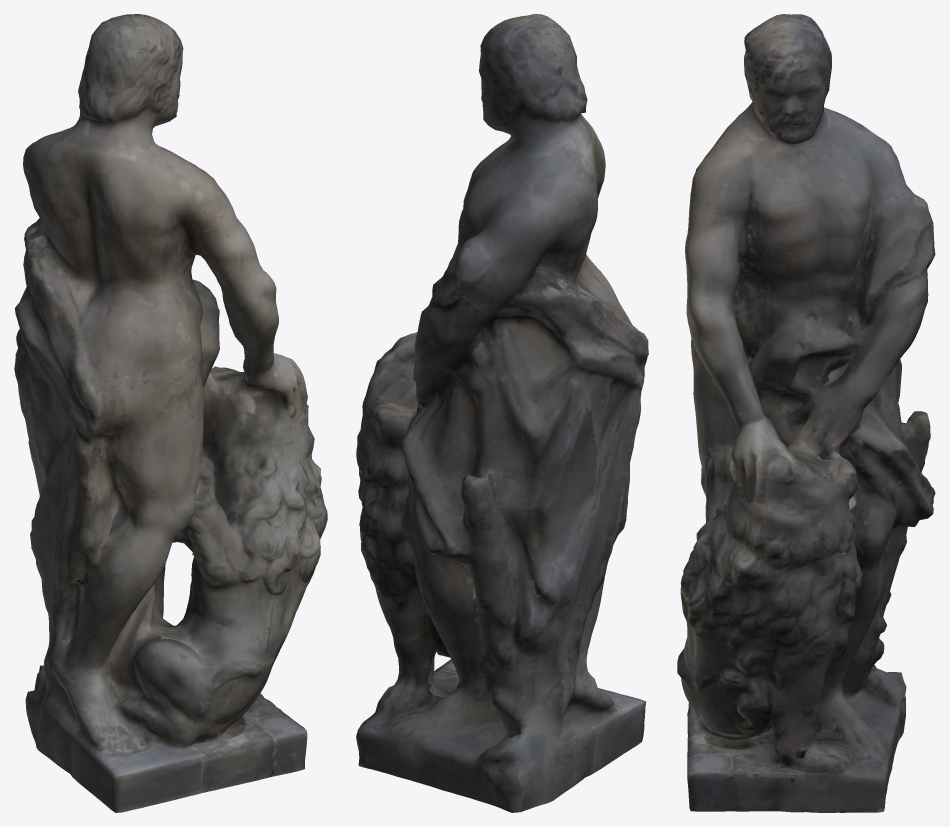
Rendered from preview.glb.
The picture shows the model from 3 angles, left to right: view 1: azimuth 30°, elevation 25°; view 2: azimuth 150°, elevation 25°; view 3: azimuth 270°, elevation 25°; orthographic projection.
Visible parts, largest first — view 1: hercules_low_statue_0; view 2: hercules_low_statue_0; view 3: hercules_low_statue_0.
Part boxes in pixels (box(x1,y1,x2,y2)): hercules_low_statue_0: box(14, 14, 327, 812); hercules_low_statue_0: box(356, 14, 648, 812); hercules_low_statue_0: box(677, 14, 935, 812).
Bounding box in the file's own units: 0.7497 × 2.04 × 0.6521.
Materials: 1 (1 with a texture image).
